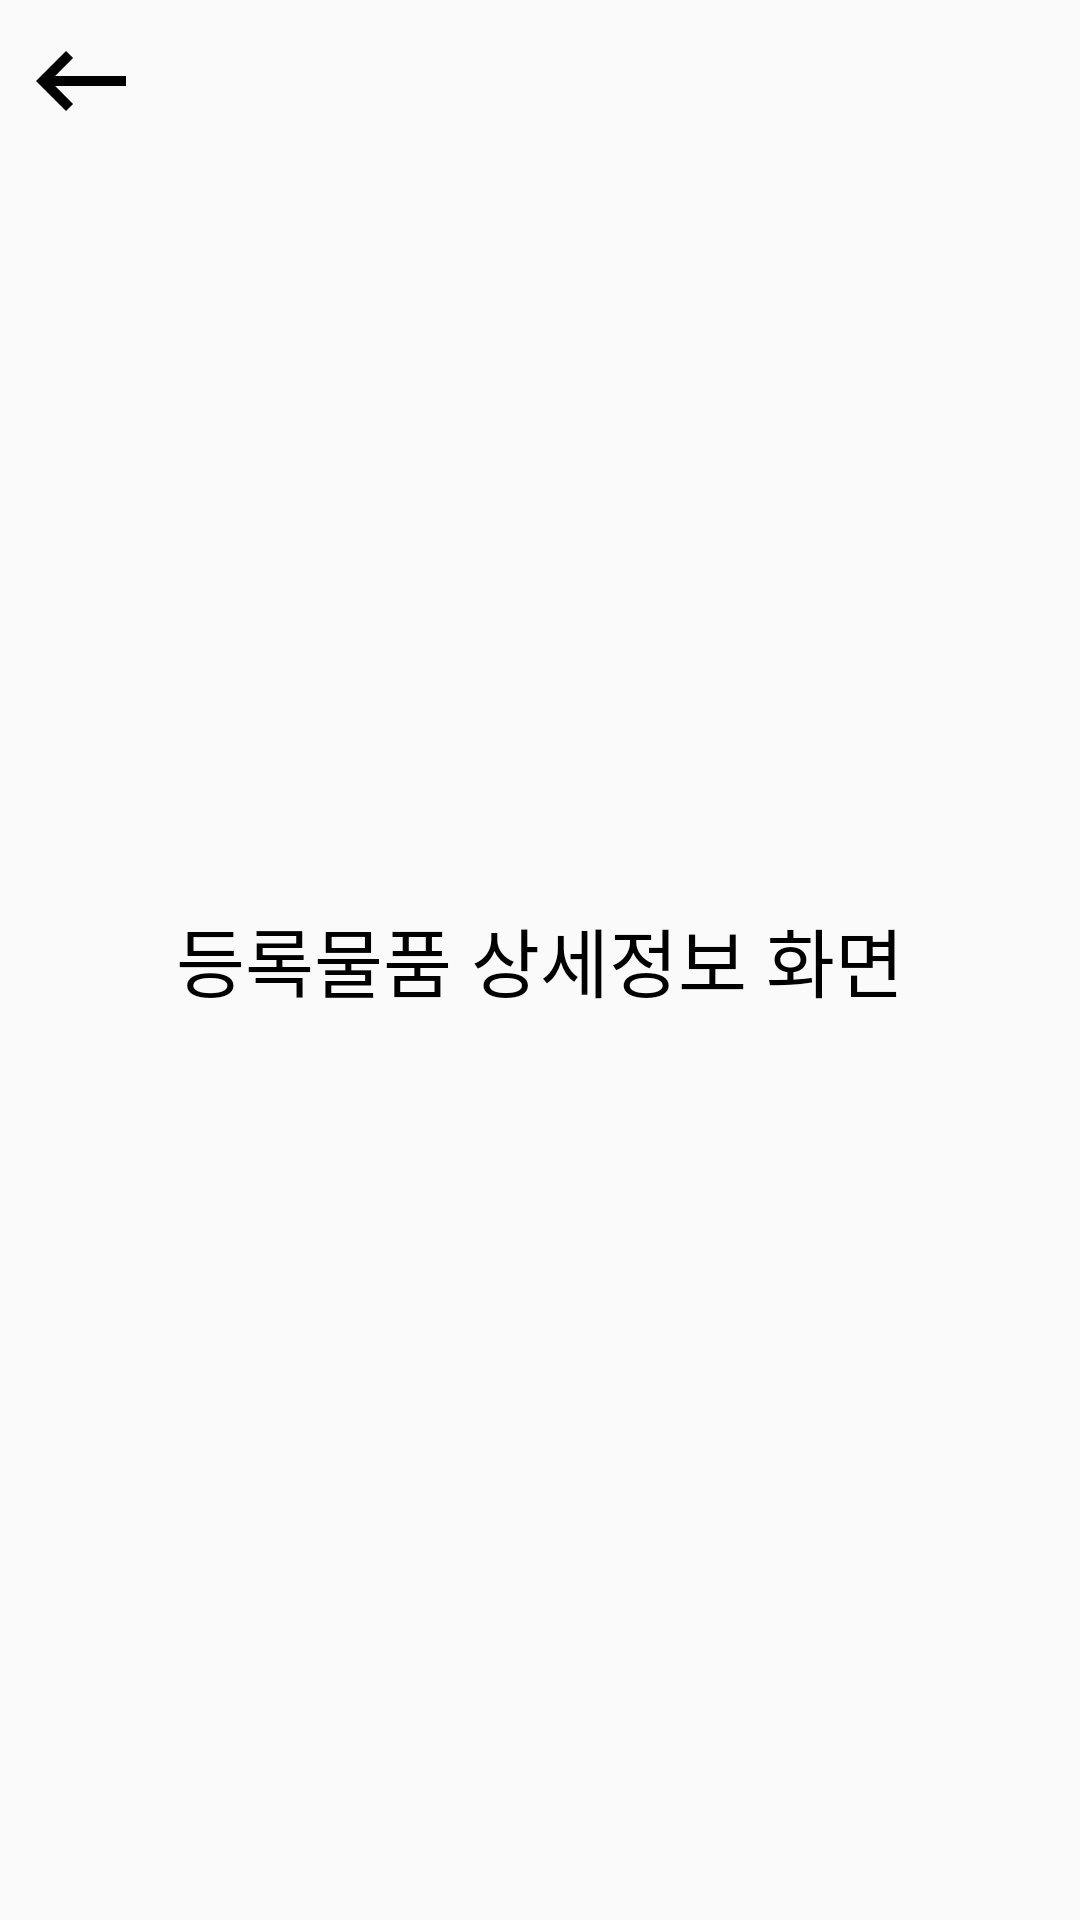

Icons on this 1080*1920 Android screen, each with the point to tap as [x,y]:
back press: [81,81]
